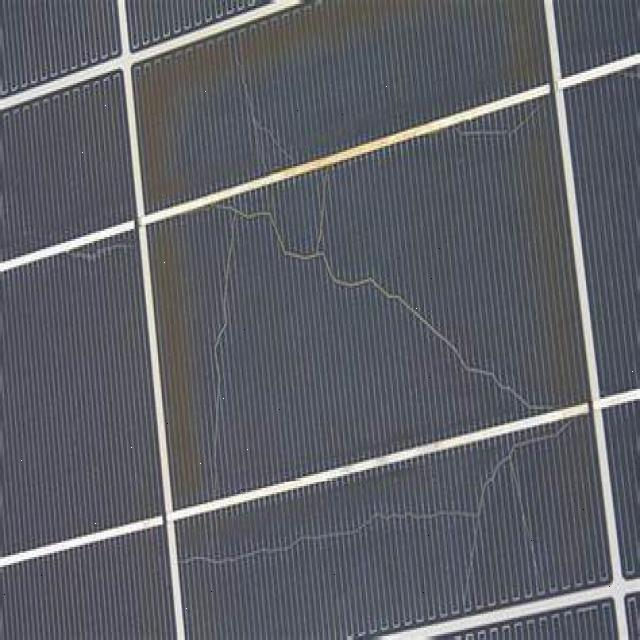Anomaly Solar Panel: (5, 2, 638, 640)
Structural Damage: (219, 137, 557, 472), (426, 393, 577, 595), (172, 491, 479, 573), (208, 72, 300, 181), (202, 211, 235, 479), (65, 239, 137, 264)
